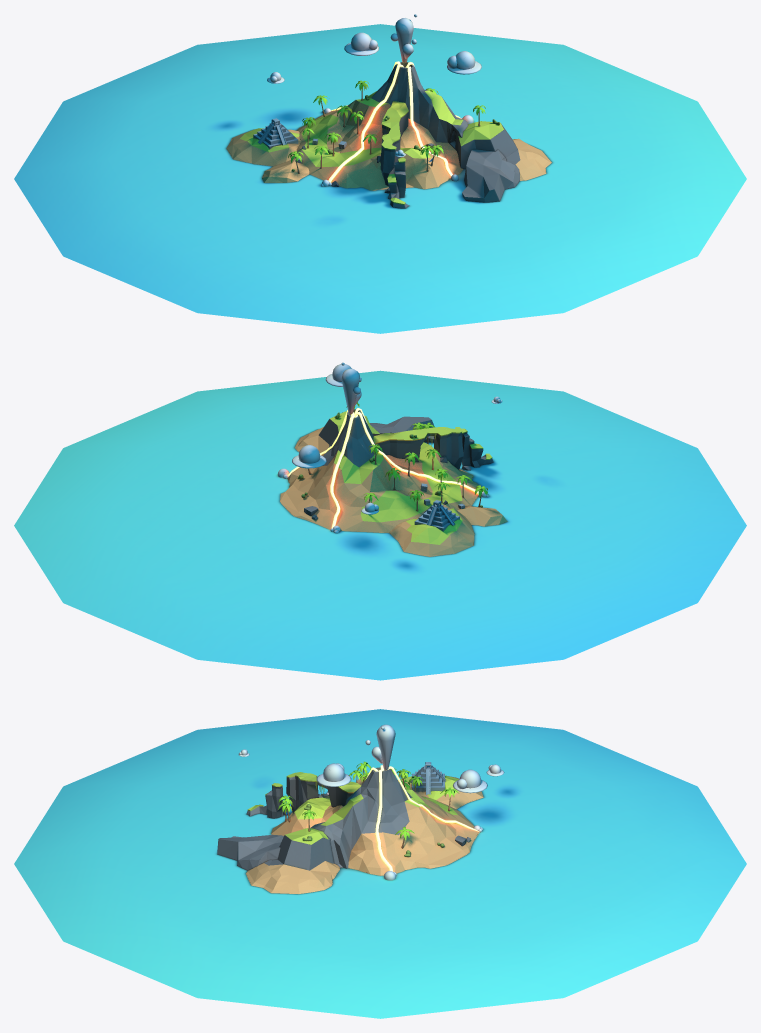
Rendered from volcano-island.glb.
The picture shows the model from 3 angles, top to bottom: view 1: azimuth 30°, elevation 25°; view 2: azimuth 150°, elevation 25°; view 3: azimuth 270°, elevation 25°; orthographic projection.
Parts seen in each view (by area): view 1: Ocean, Volacano_Sand, Volcano_Base, Volcano_Grass, Clouds, Palm tree_1, Volcanic_lava, Island_Grass, Pyramid; view 2: Ocean, Volacano_Sand, Volcano_Base, Volcano_Grass, Clouds, Volcanic_lava, Palm tree_1, Island_Grass, Pyramid; view 3: Ocean, Volacano_Sand, Volcano_Base, Clouds, Volcano_Grass, Palm tree_1, Volcanic_lava, Pyramid, Island_Grass.
Boxes of the visible parts, box(x1,y1,x2,y2) form: Ocean: box(14, 24, 746, 333); Volacano_Sand: box(226, 100, 551, 190); Volcano_Base: box(302, 62, 520, 208); Volcano_Grass: box(240, 90, 503, 166); Clouds: box(267, 14, 481, 157); Palm tree_1: box(288, 80, 485, 162); Volcanic_lava: box(328, 61, 460, 182); Island_Grass: box(381, 101, 408, 204); Pyramid: box(253, 118, 346, 163); Ocean: box(14, 370, 746, 680); Volacano_Sand: box(280, 427, 507, 556); Volcano_Base: box(304, 409, 493, 519); Volcano_Grass: box(330, 411, 462, 544); Clouds: box(292, 362, 502, 514); Volcanic_lava: box(288, 408, 478, 528); Palm tree_1: box(346, 402, 488, 502); Island_Grass: box(373, 427, 492, 459); Pyramid: box(414, 483, 464, 531); Ocean: box(14, 709, 746, 1018); Volacano_Sand: box(246, 772, 483, 894); Volcano_Base: box(217, 767, 470, 870); Clouds: box(238, 724, 504, 793); Volcano_Grass: box(285, 775, 458, 844); Palm tree_1: box(278, 761, 459, 840); Volcanic_lava: box(366, 765, 479, 871); Pyramid: box(410, 762, 445, 794); Island_Grass: box(247, 772, 361, 811).
Size of the model in its own units: 47509 by 11089 by 47509.
15 materials, 15 textured.
